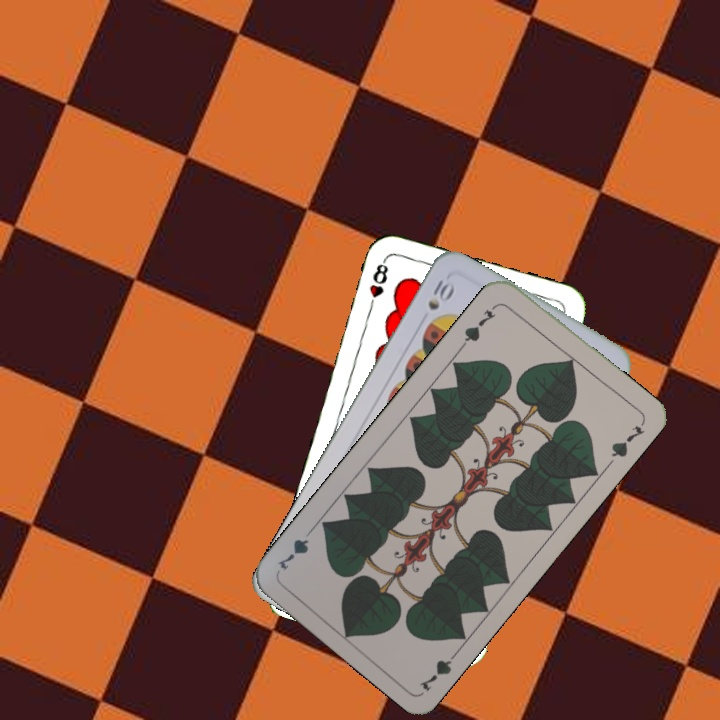G7: (415, 644, 463, 694), (458, 300, 501, 350)
H8: (365, 255, 391, 314)
S10: (423, 273, 457, 313)
